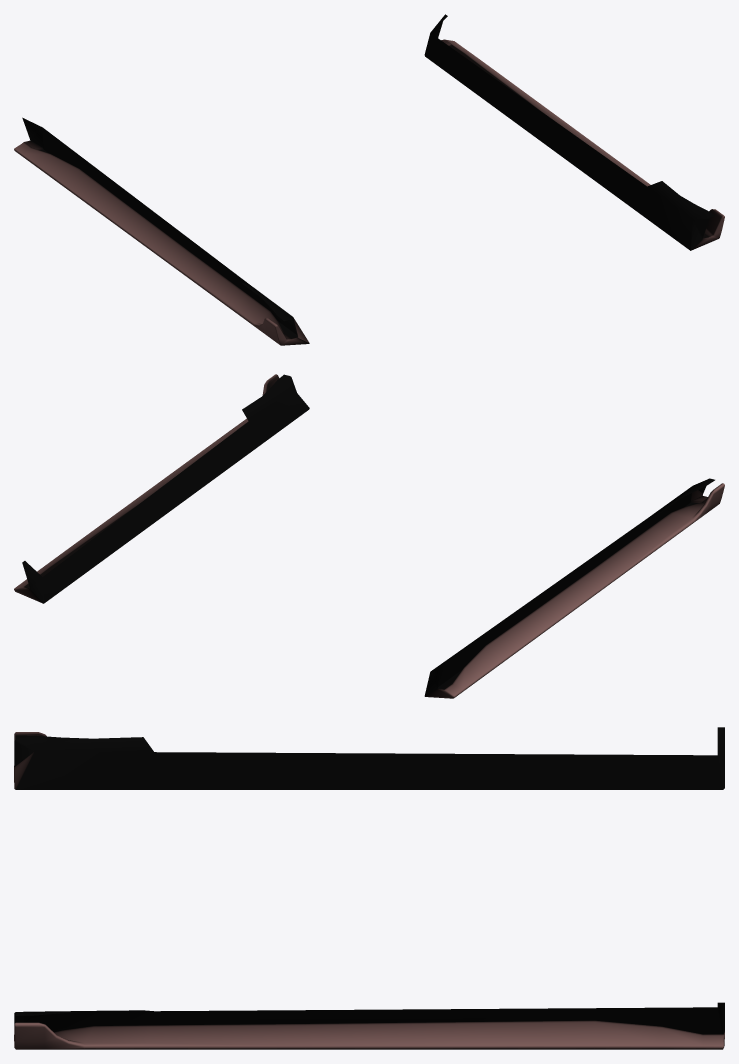
Rendered from Mustang16_Skirt_02_Trim.fbx.
3 views of the same model, one above another, from view 1: azimuth 30°, elevation 25°; view 2: azimuth 150°, elevation 25°; view 3: azimuth 270°, elevation 25° (orthographic). The views are drawn at different scales.
Parts seen in each view (by area): view 1: Mustang16_Skirt_02_Trim; view 2: Mustang16_Skirt_02_Trim; view 3: Mustang16_Skirt_02_Trim.
Part boxes in pixels (box(x1,y1,x2,y2)): Mustang16_Skirt_02_Trim: box(14, 14, 724, 345); Mustang16_Skirt_02_Trim: box(14, 374, 724, 698); Mustang16_Skirt_02_Trim: box(14, 727, 724, 1049).
Size of the model in its own units: 186 by 14.51 by 191.
